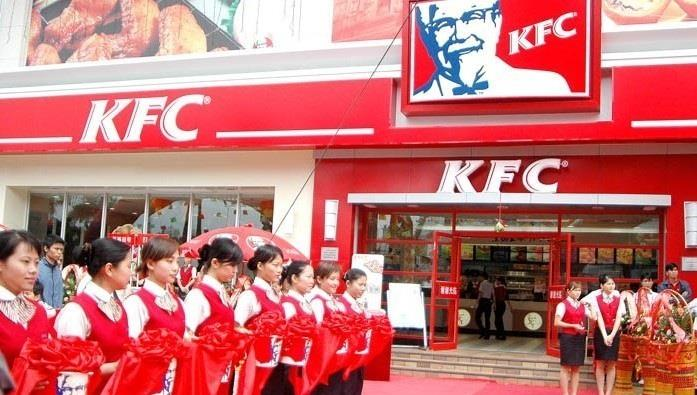KFC: (400, 0, 590, 106)
